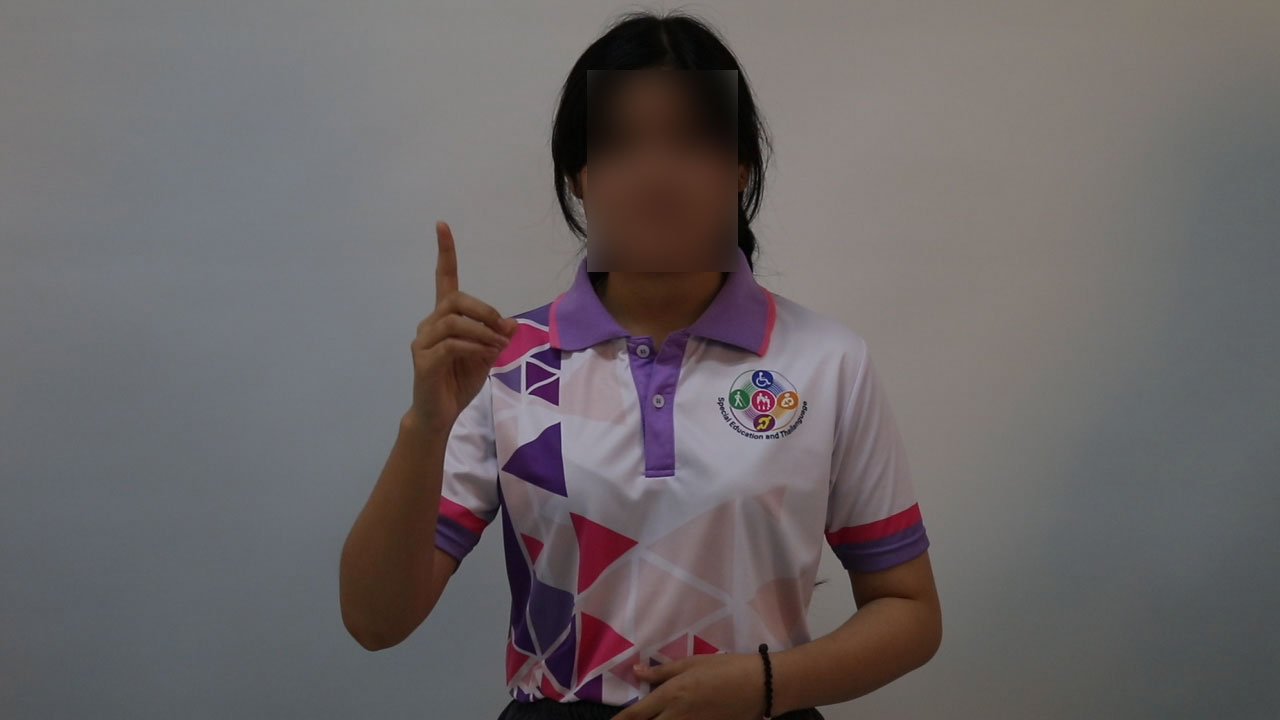dor: (387, 210, 524, 432)
